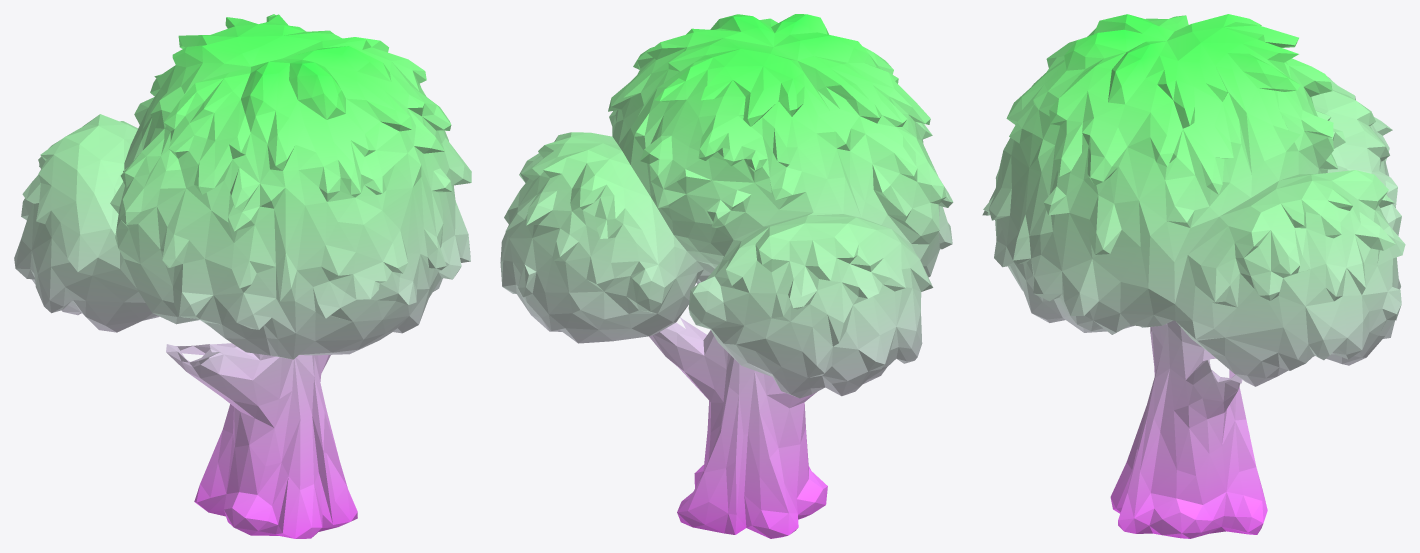
The model's file is 85_cyb_laser_gradient_fish_scales_2946_2026_10_03_ccaf13.glb.
3 views of the same model, side by side, from view 1: azimuth 30°, elevation 25°; view 2: azimuth 150°, elevation 25°; view 3: azimuth 270°, elevation 25° (orthographic). The views are drawn at different scales.
Visible parts, largest first — view 1: geometry_0; view 2: geometry_0; view 3: geometry_0.
Part boxes in pixels (bbox=[...]): geometry_0: bbox=[14, 14, 471, 538]; geometry_0: bbox=[500, 14, 953, 538]; geometry_0: bbox=[982, 14, 1405, 538].
Size of the model in its own units: 0.8666 by 0.9989 by 0.7895.
